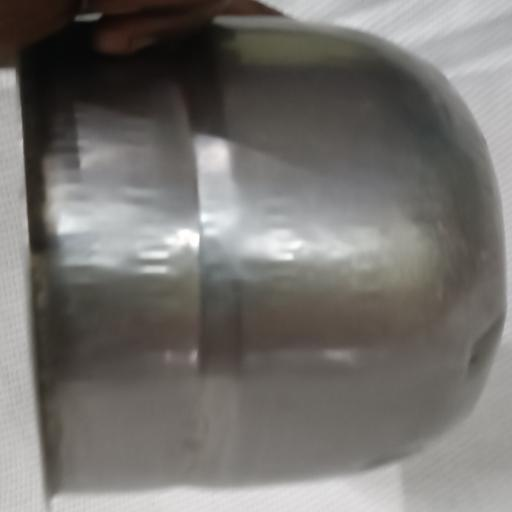vessel: (20, 18, 505, 497)
